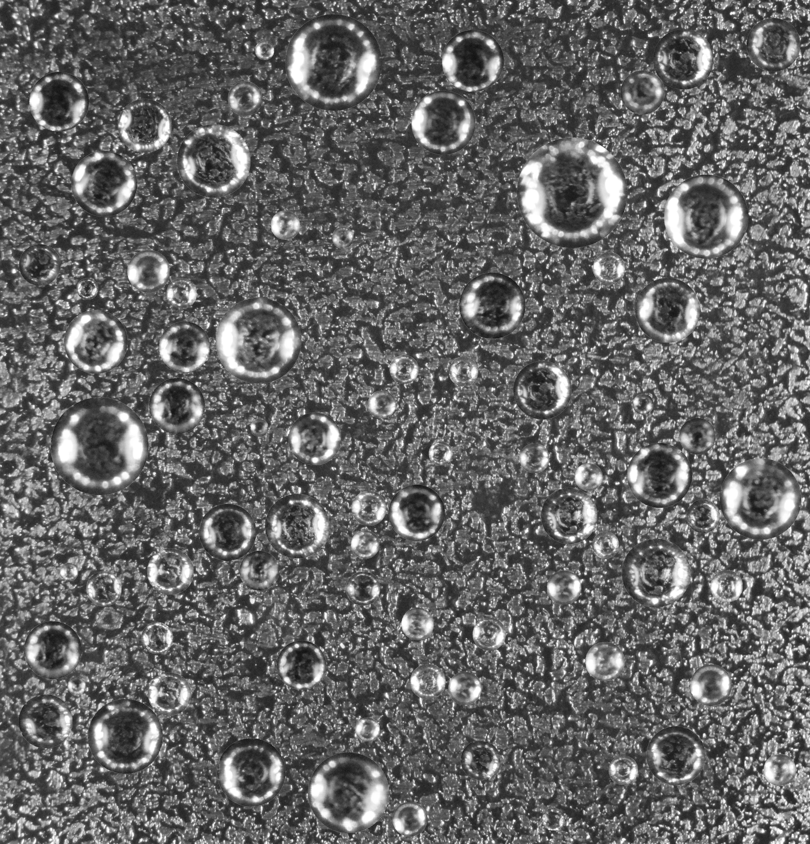Bubble: (517, 137, 627, 247), (50, 397, 148, 495), (285, 14, 381, 110), (215, 297, 301, 383), (664, 174, 748, 258), (720, 458, 801, 539), (308, 752, 388, 833), (87, 699, 162, 773), (177, 124, 250, 197), (621, 538, 690, 607), (217, 738, 285, 806), (459, 272, 525, 338), (71, 150, 137, 216), (635, 277, 700, 342), (627, 443, 692, 507), (265, 494, 329, 558), (411, 90, 475, 154), (64, 310, 127, 373), (442, 29, 503, 91), (653, 29, 713, 89), (29, 71, 88, 131), (646, 726, 705, 785), (23, 621, 81, 679), (513, 361, 571, 419), (199, 503, 256, 560), (388, 484, 444, 541), (541, 487, 597, 544), (149, 378, 204, 433), (18, 694, 72, 748), (746, 17, 800, 71), (117, 98, 171, 152), (288, 412, 341, 465), (159, 321, 209, 372), (276, 640, 326, 689), (147, 548, 193, 594), (620, 70, 664, 114), (148, 672, 191, 715), (127, 250, 169, 292), (690, 664, 731, 706), (19, 244, 60, 285), (239, 550, 279, 590), (460, 740, 500, 779), (585, 642, 624, 681), (679, 418, 715, 454), (351, 490, 386, 525), (410, 664, 445, 699), (86, 571, 121, 606), (227, 81, 262, 115), (392, 802, 427, 836), (547, 570, 581, 604), (346, 571, 380, 605), (686, 499, 720, 533), (448, 671, 481, 705), (472, 617, 505, 650), (401, 607, 433, 640), (710, 570, 742, 602), (593, 252, 625, 284), (763, 754, 795, 786), (141, 622, 172, 653), (608, 755, 638, 785), (448, 356, 478, 386), (519, 443, 549, 473), (166, 278, 196, 308), (270, 210, 299, 239), (389, 355, 418, 383), (367, 390, 395, 418), (351, 530, 379, 558), (574, 463, 602, 490), (592, 531, 619, 558), (428, 441, 452, 465), (355, 717, 379, 741), (542, 808, 564, 830), (76, 278, 98, 299), (332, 226, 353, 248), (632, 393, 653, 414), (255, 40, 274, 59), (59, 562, 78, 581), (67, 677, 85, 695), (250, 418, 268, 436), (665, 699, 680, 714)
